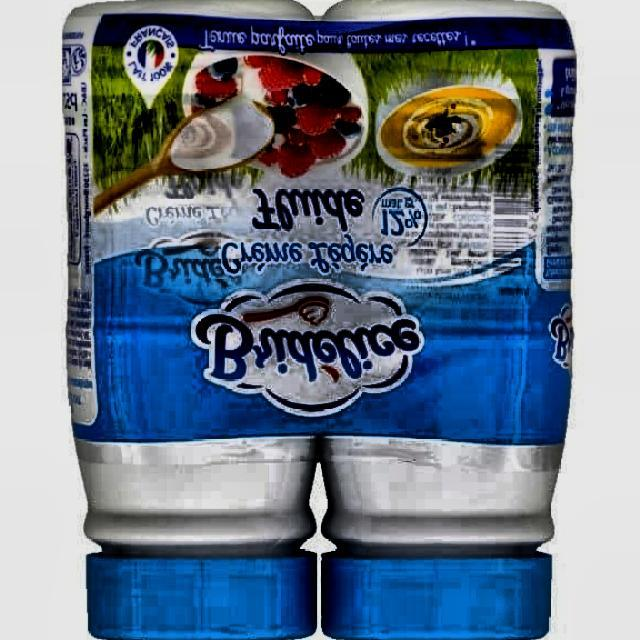cardboard: (60, 0, 579, 640)
